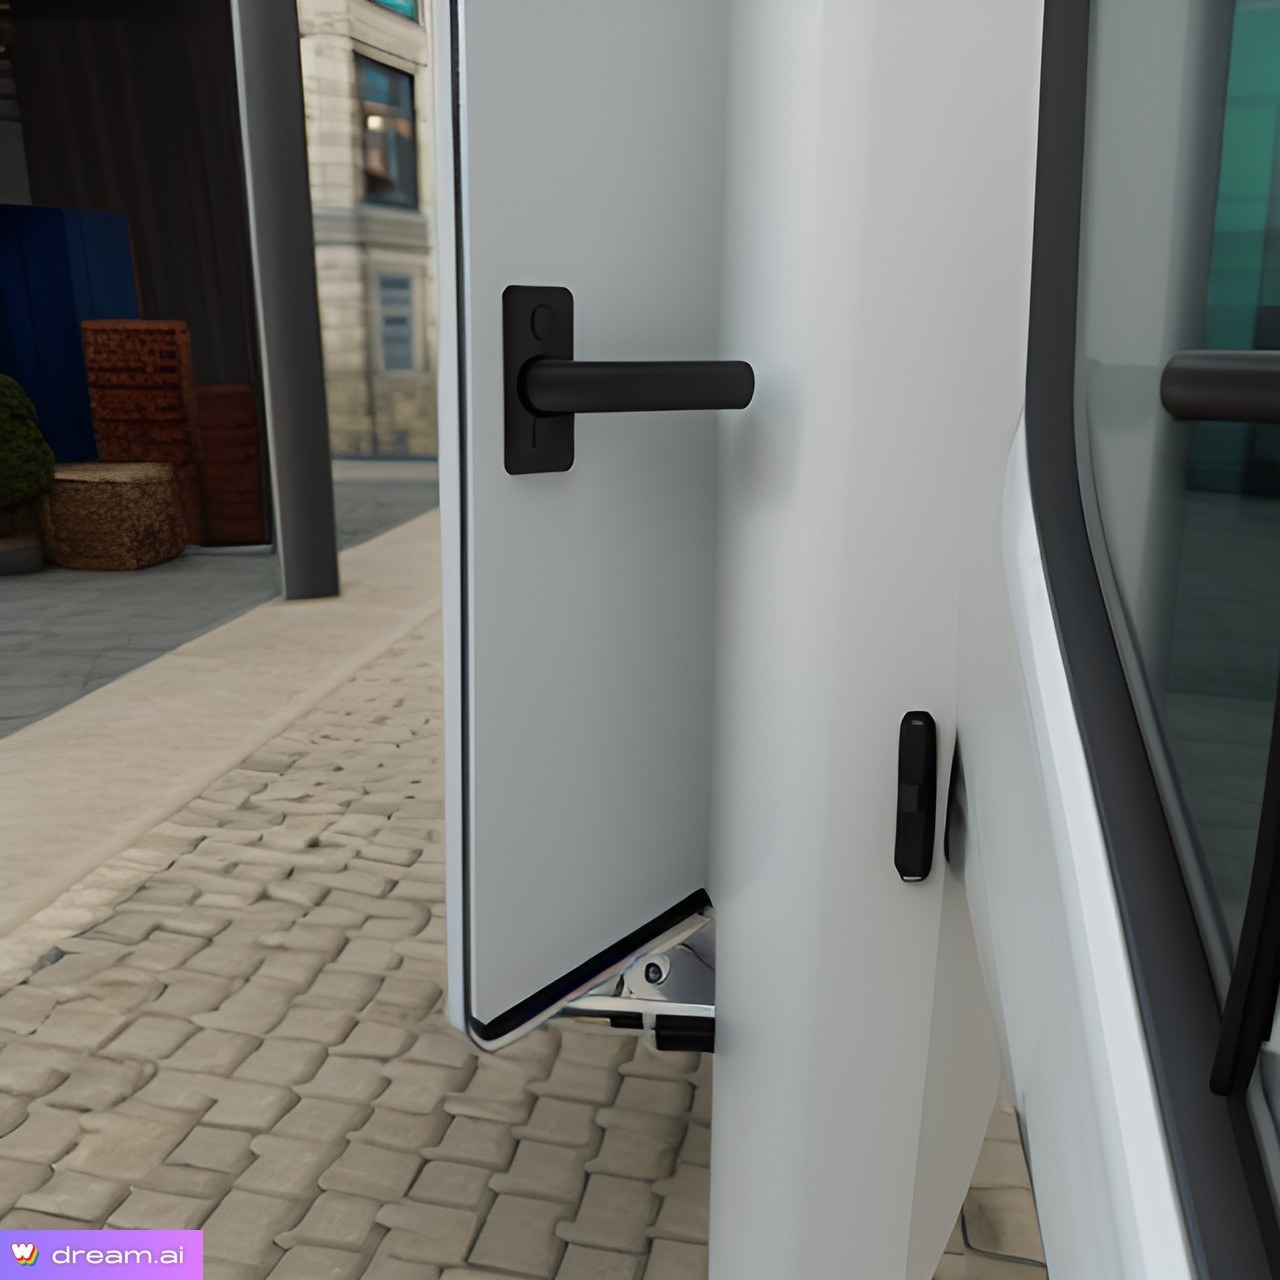door_front: (423, 1, 772, 1073)
